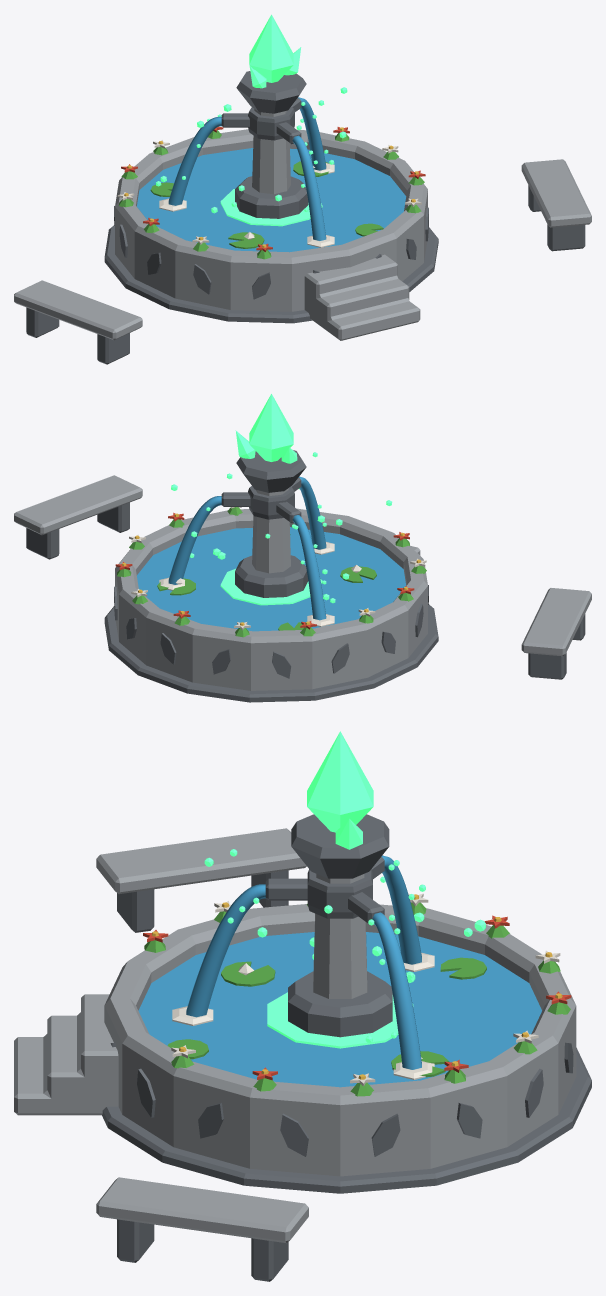
The model's file is healing-fountain.glb.
3 renders of one model, top to bottom at view 1: azimuth 30°, elevation 25°; view 2: azimuth 150°, elevation 25°; view 3: azimuth 270°, elevation 25°, orthographic. The views are drawn at different scales.
Parts seen in each view (by area): view 1: Fountain_Basin, Water_Surface, Fountain_Steps, Fountain_Plinth, Bench_Left_Seat, Water_Streams, Bench_Right_Seat, HealCrystal, Pillar_Shaft, Pillar_Base, RimFlowers, Pillar_Cup (+7 smaller); view 2: Fountain_Basin, Water_Surface, Fountain_Plinth, Bench_Right_Seat, Water_Streams, Bench_Left_Seat, HealCrystal, RimFlowers, Fountain_LeafCarvings, Pillar_Shaft, Pillar_Base, Pillar_Cup (+7 smaller); view 3: Fountain_Basin, Water_Surface, Fountain_Plinth, Fountain_Steps, Bench_Right_Seat, Bench_Left_Seat, Water_Streams, Pillar_Base, HealCrystal, Pillar_Shaft, Fountain_LeafCarvings, RimFlowers (+8 smaller).
Part boxes in pixels (<box>): Fountain_Basin: <box>115,129,427,311</box>; Water_Surface: <box>137,148,406,252</box>; Fountain_Steps: <box>304,254,420,340</box>; Fountain_Plinth: <box>104,225,438,323</box>; Bench_Left_Seat: <box>14,280,142,340</box>; Water_Streams: <box>168,97,326,240</box>; Bench_Right_Seat: <box>521,159,591,227</box>; HealCrystal: <box>249,14,301,88</box>; Pillar_Shaft: <box>252,109,290,194</box>; Pillar_Base: <box>235,176,308,218</box>; RimFlowers: <box>117,126,425,259</box>; Pillar_Cup: <box>236,71,306,113</box>; Fountain_Basin: <box>115,508,427,690</box>; Water_Surface: <box>137,527,406,631</box>; Fountain_Plinth: <box>104,604,438,702</box>; Bench_Right_Seat: <box>14,475,142,535</box>; Water_Streams: <box>168,476,326,620</box>; Bench_Left_Seat: <box>521,588,591,656</box>; HealCrystal: <box>235,394,297,463</box>; RimFlowers: <box>115,507,426,637</box>; Fountain_LeafCarvings: <box>114,585,428,678</box>; Pillar_Shaft: <box>252,488,290,573</box>; Pillar_Base: <box>235,555,308,597</box>; Pillar_Cup: <box>236,450,306,492</box>; Fountain_Basin: <box>104,904,576,1176</box>; Water_Surface: <box>138,932,541,1087</box>; Fountain_Plinth: <box>102,1047,591,1193</box>; Fountain_Steps: <box>14,994,118,1115</box>; Bench_Right_Seat: <box>96,1177,308,1243</box>; Bench_Left_Seat: <box>96,828,306,894</box>; Water_Streams: <box>186,855,421,1069</box>; Pillar_Base: <box>288,971,392,1037</box>; HealCrystal: <box>307,731,373,849</box>; Pillar_Shaft: <box>313,874,367,998</box>; Fountain_LeafCarvings: <box>110,1042,573,1156</box>; RimFlowers: <box>143,893,571,1096</box>.
Bounding box in the file's own units: 24.19 × 10 × 14.7.
